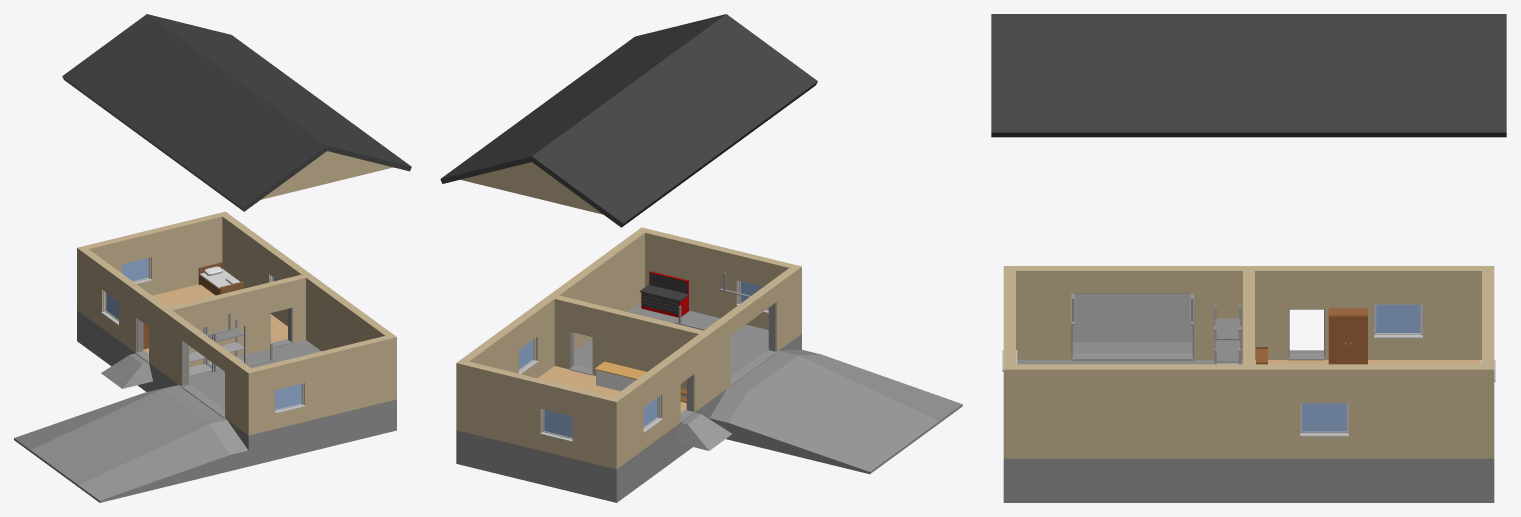
The model's file is PlayerHouse.fbx.
3 views of the same model, side by side, from view 1: azimuth 30°, elevation 25°; view 2: azimuth 150°, elevation 25°; view 3: azimuth 270°, elevation 25° (orthographic). The views are drawn at different scales.
Visible parts, largest first — view 1: Base, RoofPanel.001; view 2: Base, RoofPanel.001; view 3: Base, RoofPanel.001.
Part boxes in pixels (bbox=[...]): Base: bbox=[14, 211, 396, 502]; RoofPanel.001: bbox=[62, 14, 411, 211]; Base: bbox=[456, 227, 962, 502]; RoofPanel.001: bbox=[440, 14, 817, 227]; Base: bbox=[1002, 266, 1495, 502]; RoofPanel.001: bbox=[991, 14, 1506, 137].
Size of the model in its own units: 20.7 by 21 by 19.66.
